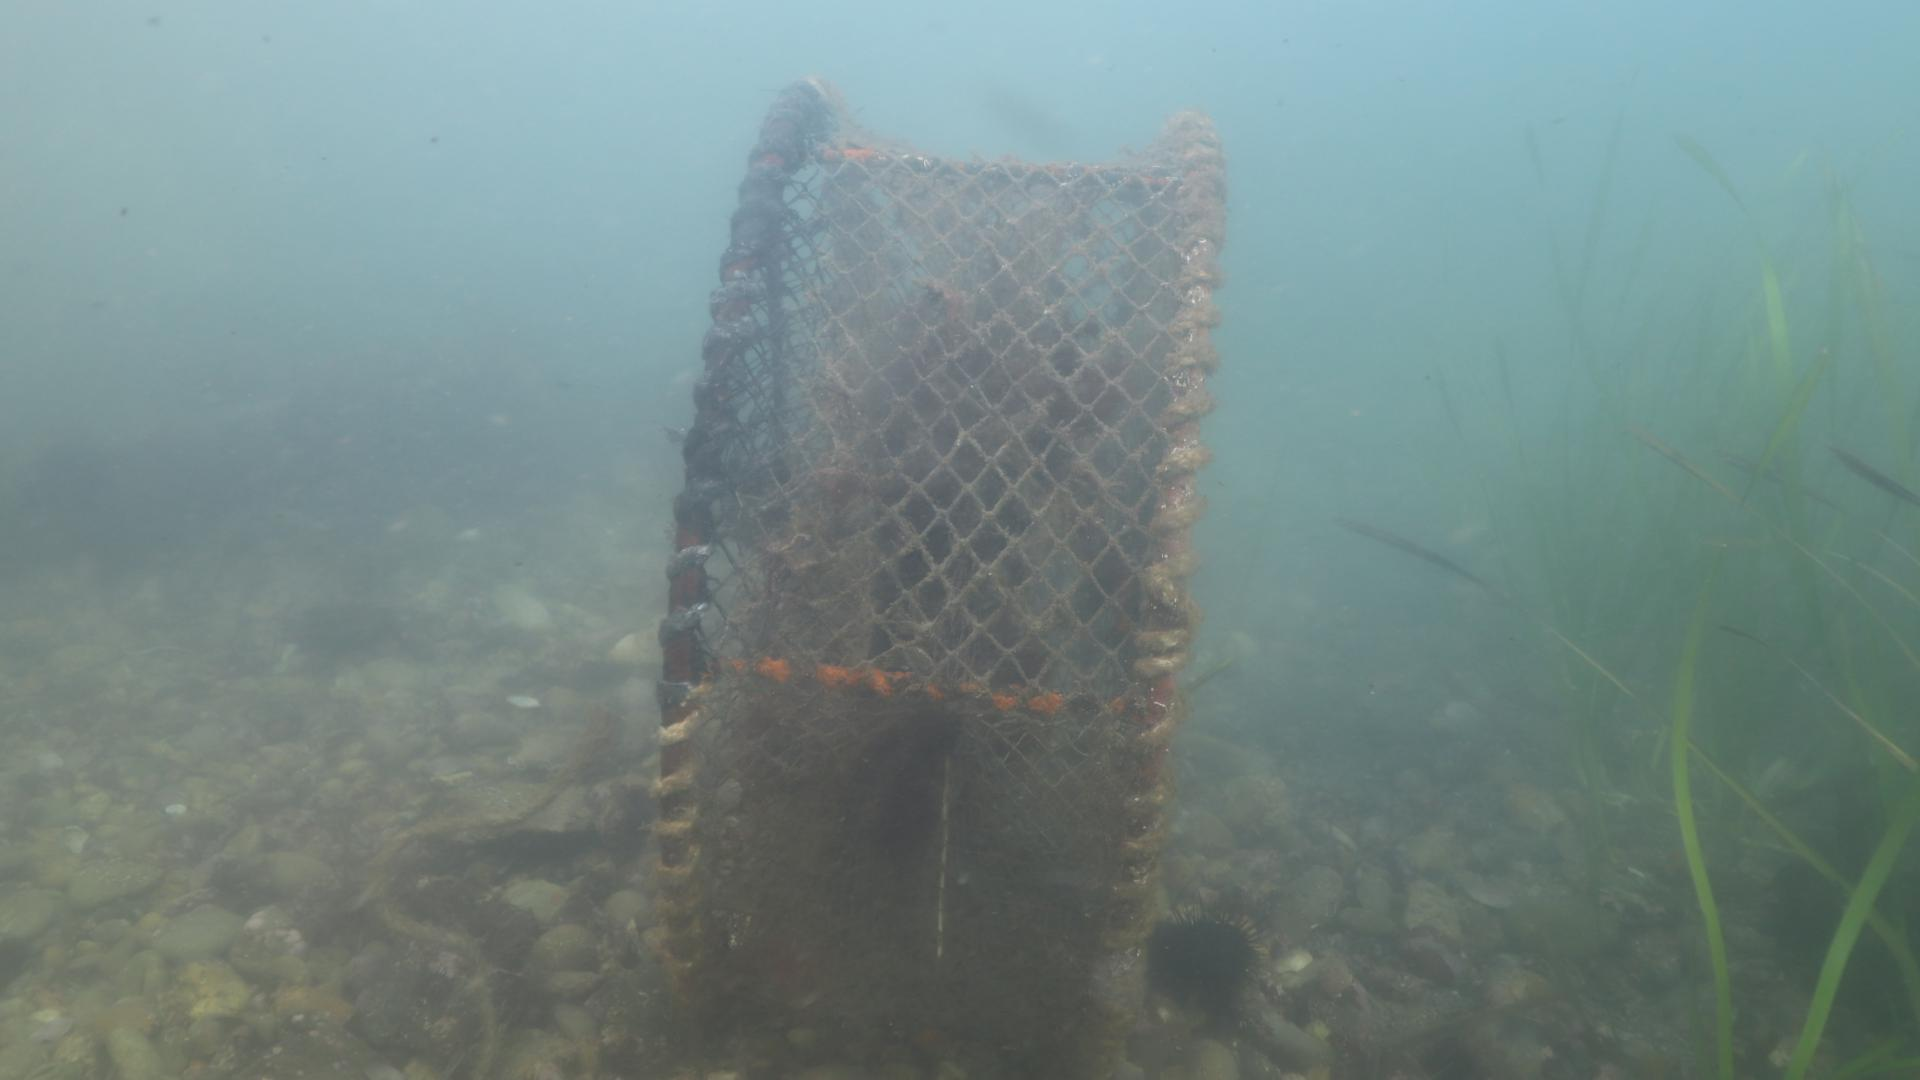circular fish trap: (642, 74, 1225, 1077)
